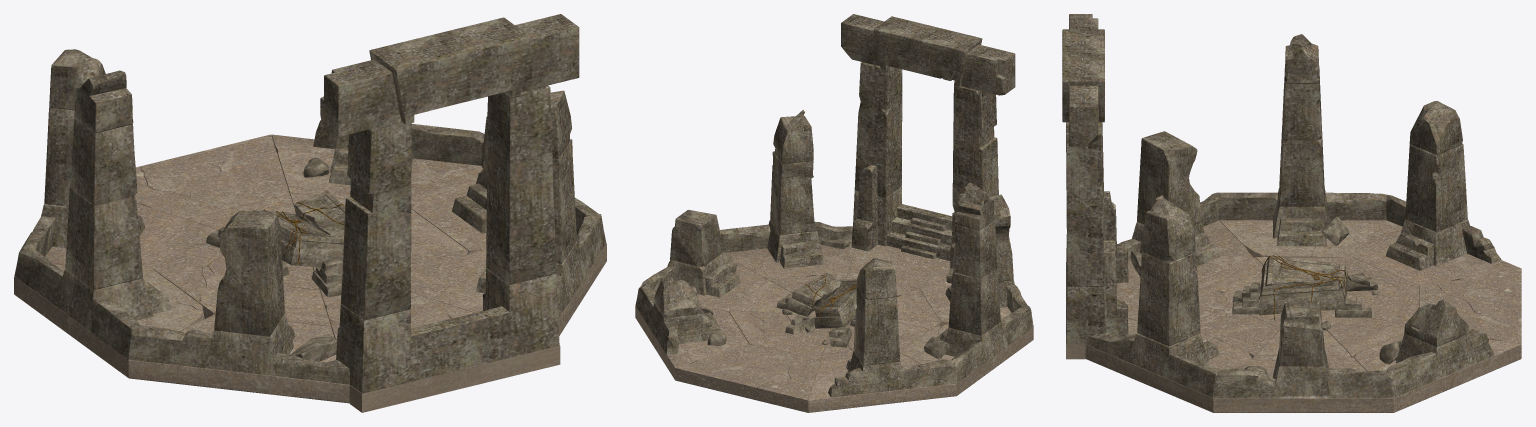
File: 111 - Altar.glb
3 renders of one model, left to right at view 1: azimuth 30°, elevation 25°; view 2: azimuth 150°, elevation 25°; view 3: azimuth 270°, elevation 25°, orthographic. The views are drawn at different scales.
Visible parts, largest first — view 1: mesh_0; view 2: mesh_0; view 3: mesh_0.
Part boxes in pixels (box(x1,y1,x2,y2)): mesh_0: box(14, 14, 606, 412); mesh_0: box(635, 14, 1033, 412); mesh_0: box(1062, 14, 1521, 412).
Bounding box in the file's own units: 7.35 × 4.95 × 7.75.
Materials: 1 (1 with a texture image).
